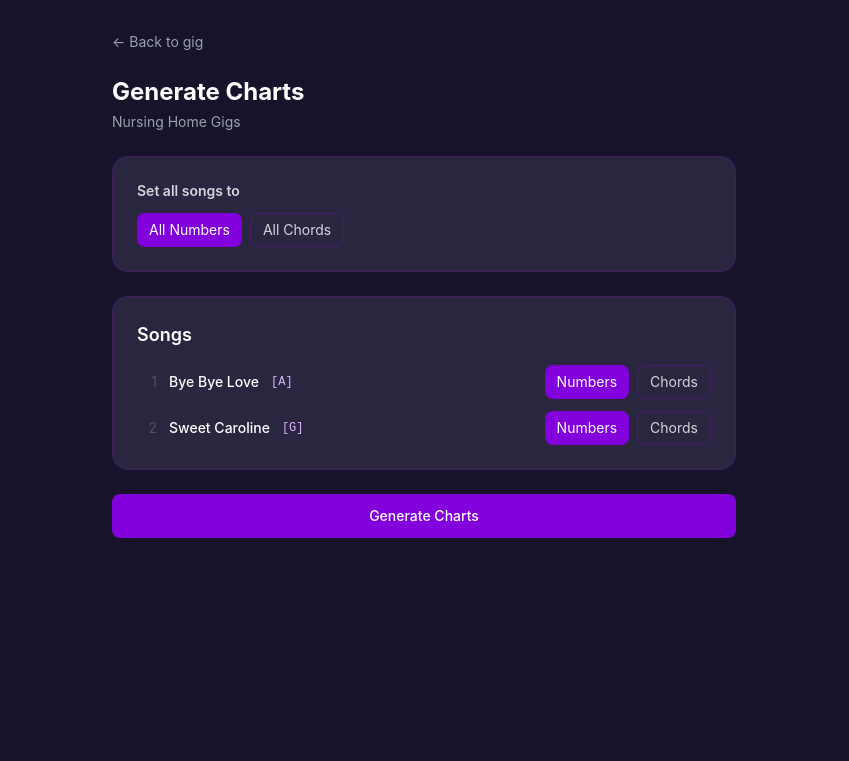
Test: GigChartsPage — performance view (#85) › keyboard keys drive navigation in the performance view (hook enabled)
Expected: the text "Bye Bye Love" is shown, [169, 372, 259, 392]
Click the button "Generate Charts".
click(424, 516)  # box [112, 494, 736, 538]
(page scrolled)
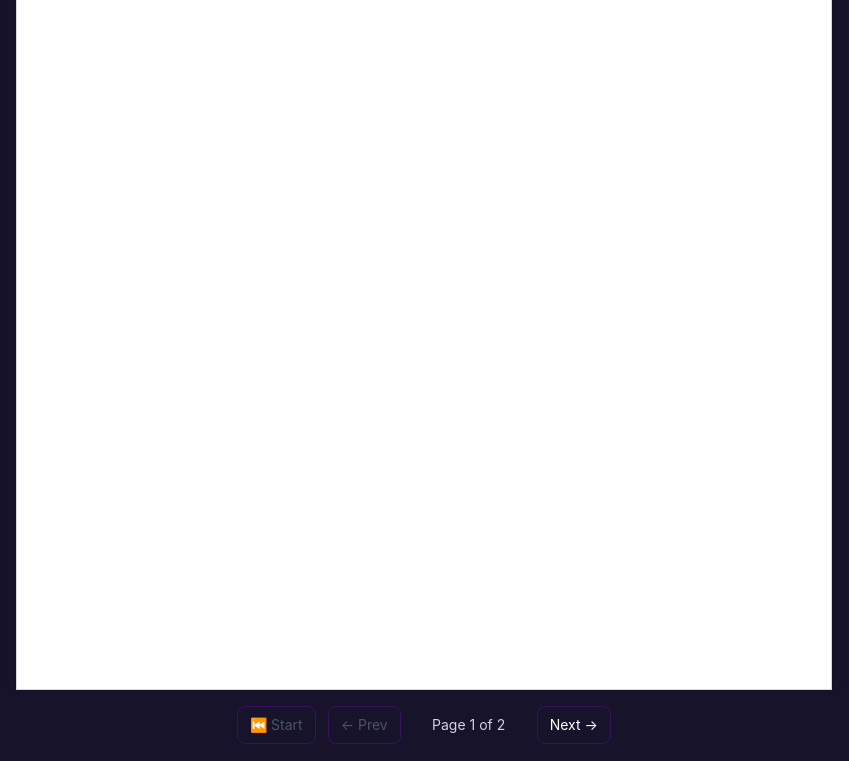
Result: the text "Page 1 of 2" is shown at [432, 716, 505, 733]
# ArrowRight advances to the next page.
Press ArrowRight
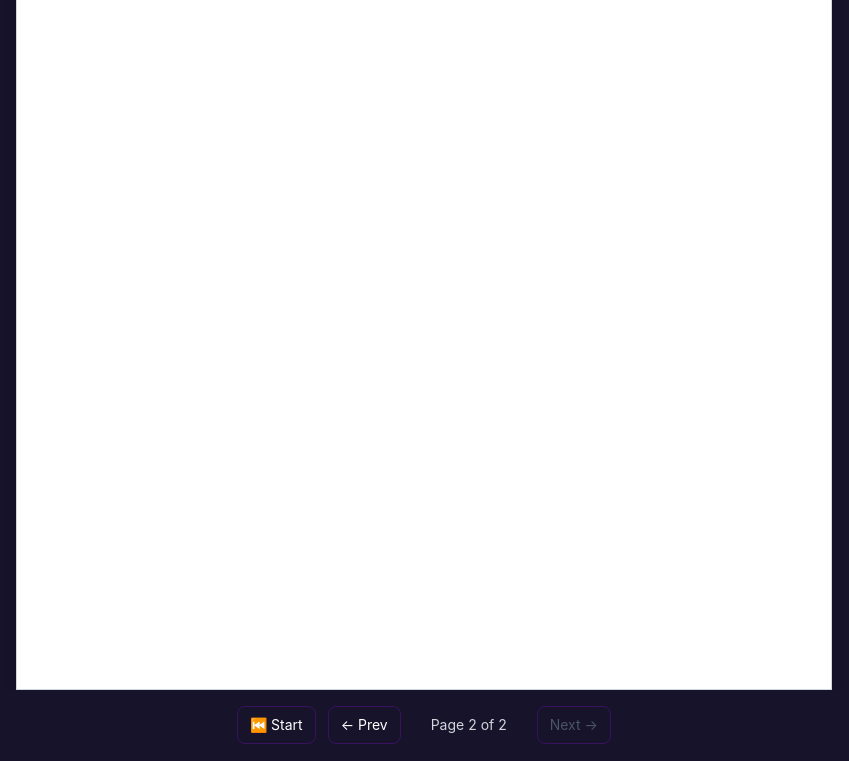
Result: the text "Page 2 of 2" is shown at [431, 716, 507, 733]
# Already at the last page: Space / PageDown are "next" but do not wrap.
Press Space
Result: the text "Page 2 of 2" is shown at [431, 716, 507, 733]
# ArrowLeft reverses to the previous page.
Press ArrowLeft
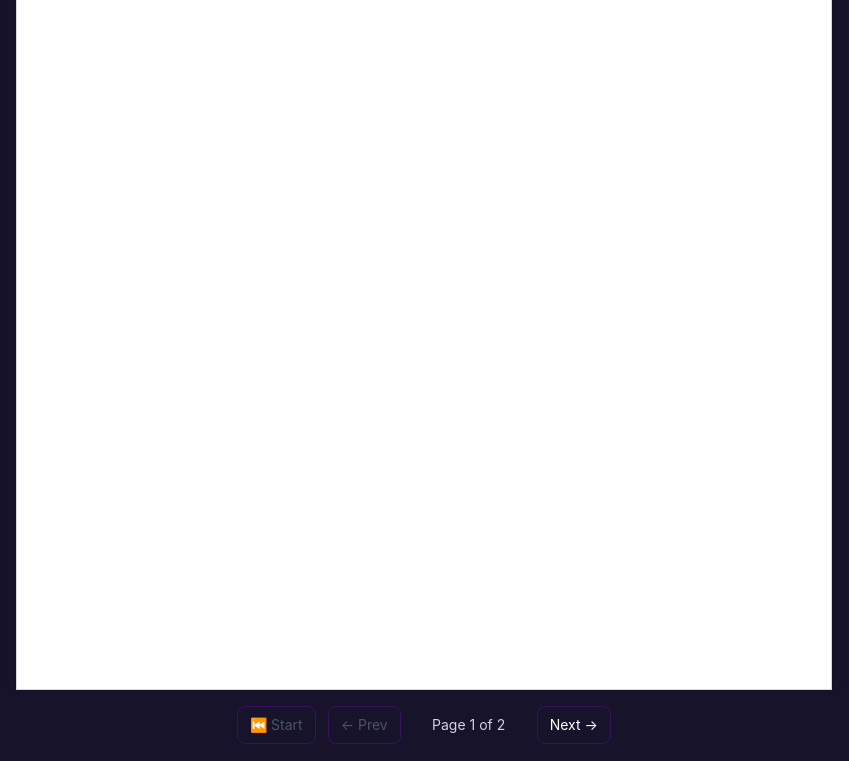
Result: the text "Page 1 of 2" is shown at [432, 716, 505, 733]
# PageDown advances again (maps to "next").
Press PageDown
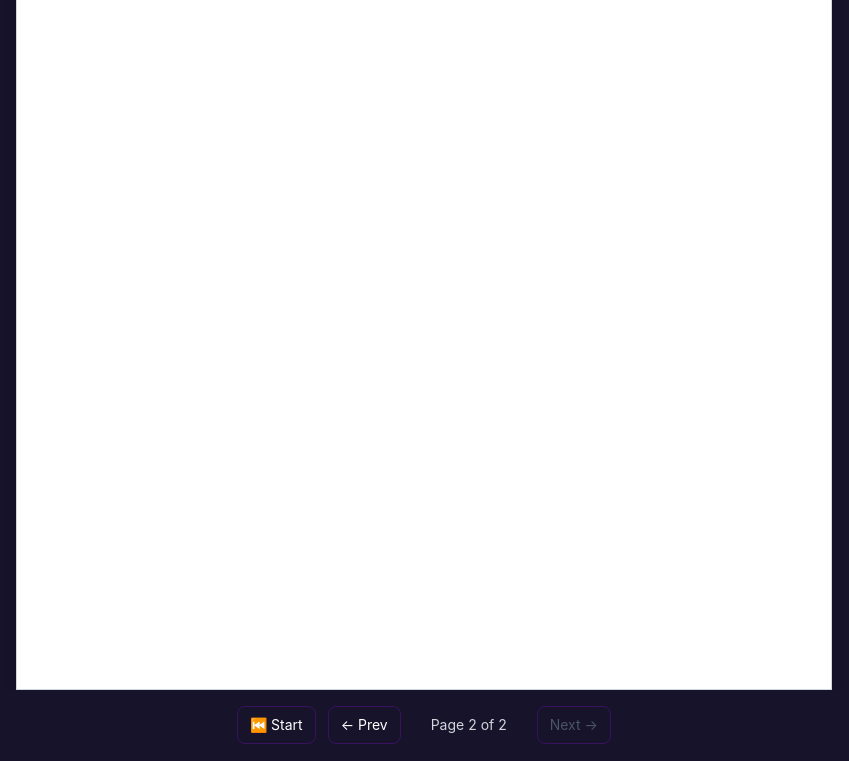
Result: the text "Page 2 of 2" is shown at [431, 716, 507, 733]
# Home jumps back to the first page.
Press Home
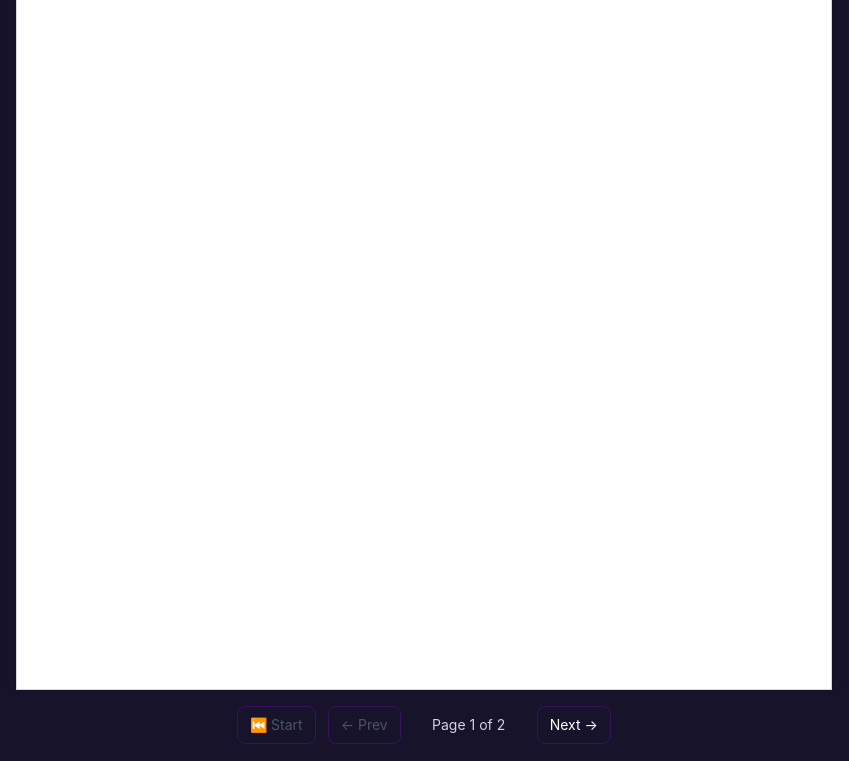
Result: the text "Page 1 of 2" is shown at [432, 716, 505, 733]
